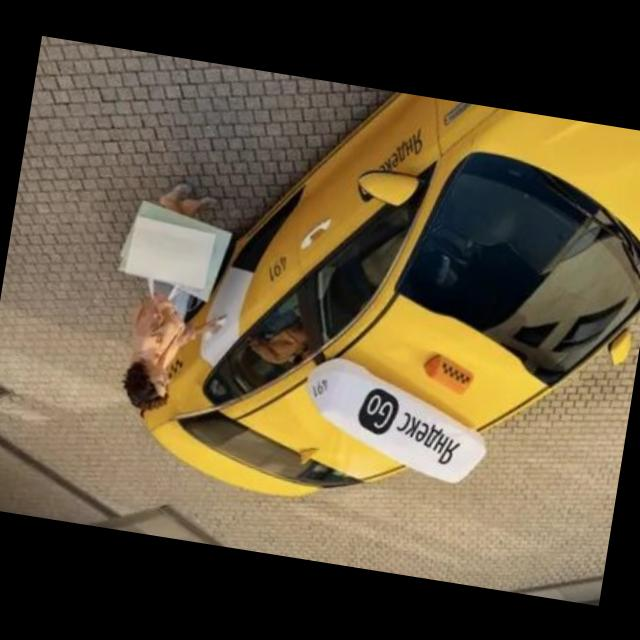taxi: (114, 58, 640, 553)
